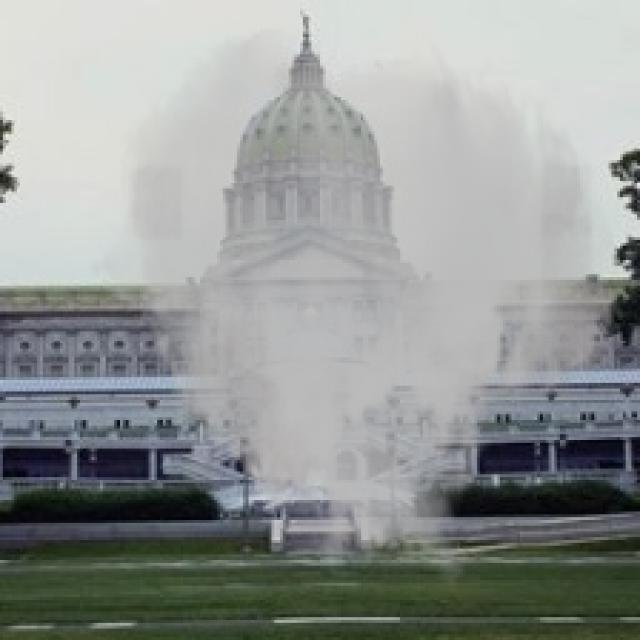smoke: (88, 23, 623, 588)
